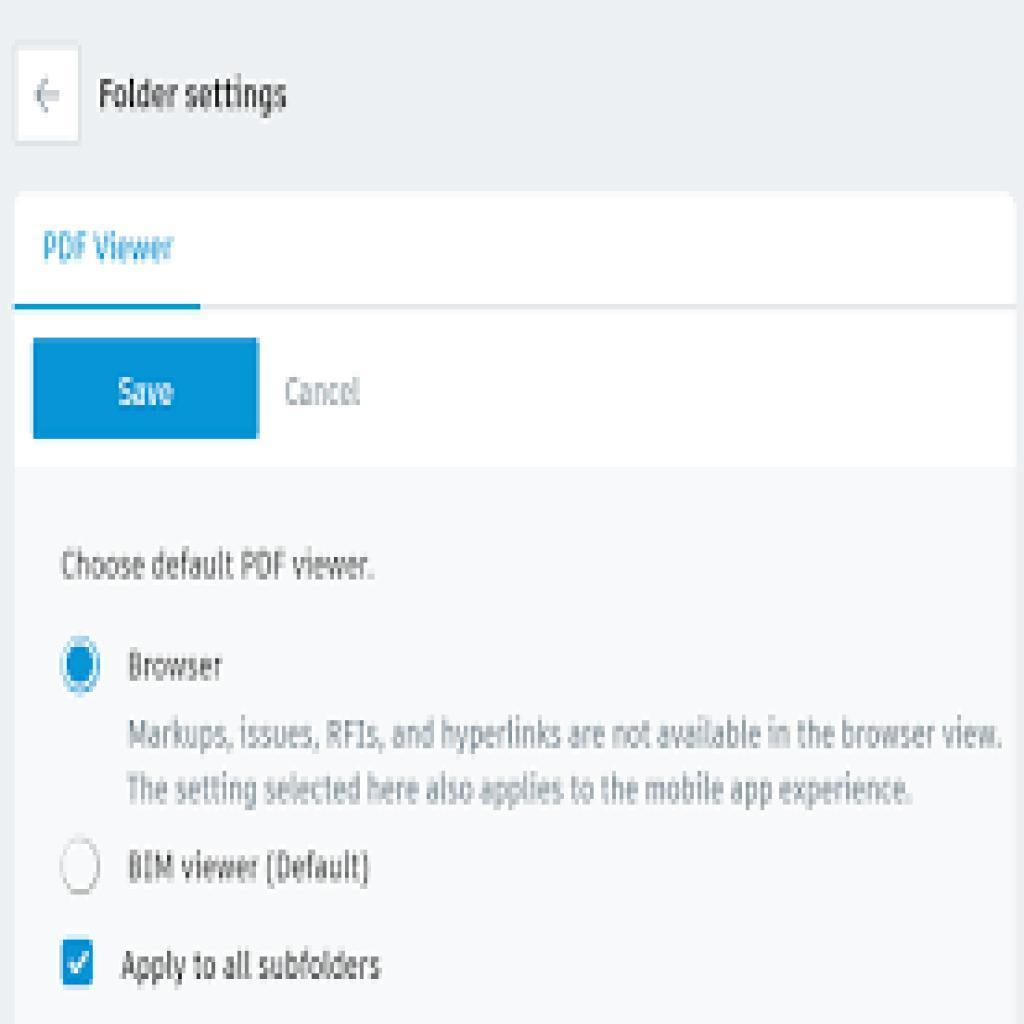button: (32, 340, 260, 440)
checkbox: (62, 939, 95, 987)
icon: (32, 75, 67, 117)
label: (124, 838, 386, 897), (55, 547, 384, 591), (120, 944, 387, 992), (95, 77, 295, 120), (124, 642, 230, 694), (282, 372, 367, 412)
radio: (61, 635, 102, 701), (62, 838, 104, 896)
